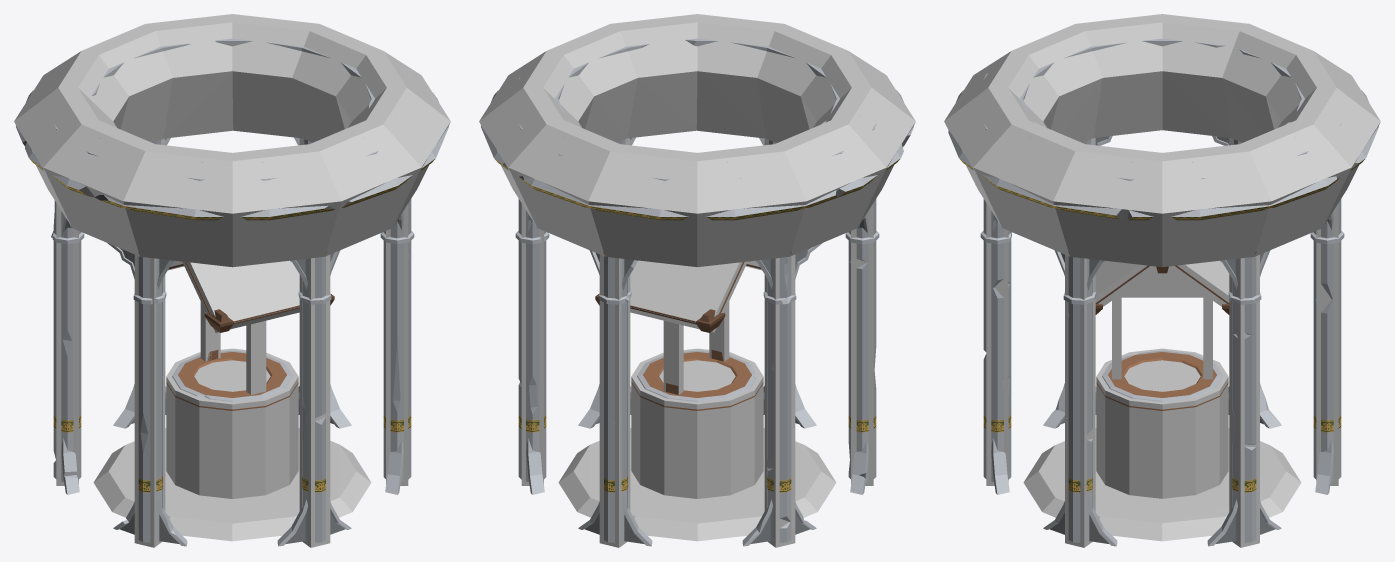
Rendered from SM_Bld_Well_01.fbx.
3 renders of one model, left to right at view 1: azimuth 30°, elevation 25°; view 2: azimuth 150°, elevation 25°; view 3: azimuth 270°, elevation 25°, orthographic.
Parts seen in each view (by area): view 1: SM_Bld_Well_01_ConvexHulls, SM_Bld_Well_01; view 2: SM_Bld_Well_01_ConvexHulls, SM_Bld_Well_01; view 3: SM_Bld_Well_01_ConvexHulls, SM_Bld_Well_01.
Boxes of the visible parts, x1,y1,x2,y2 form: SM_Bld_Well_01_ConvexHulls: (14, 14, 450, 547); SM_Bld_Well_01: (16, 38, 448, 546); SM_Bld_Well_01_ConvexHulls: (479, 14, 915, 547); SM_Bld_Well_01: (481, 38, 913, 546); SM_Bld_Well_01_ConvexHulls: (944, 14, 1380, 547); SM_Bld_Well_01: (948, 38, 1378, 546).
Bounding box in the file's own units: 371 × 371 × 370.
Materials: 3 (2 with a texture image).
